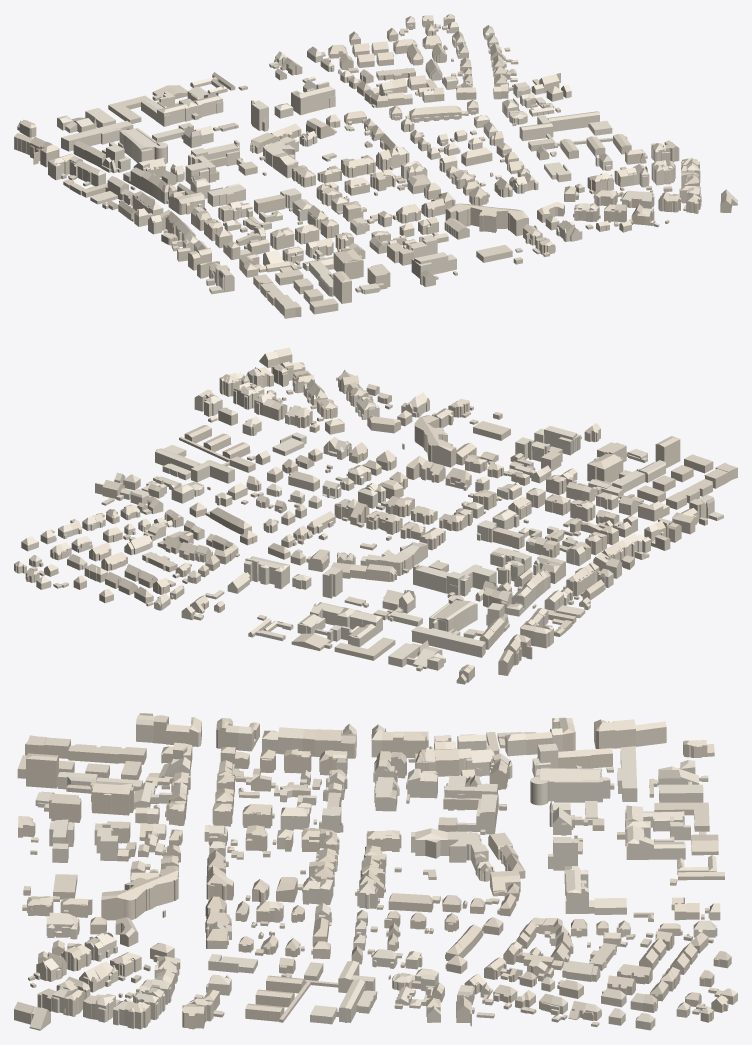
The picture shows the model from 3 angles, top to bottom: view 1: azimuth 30°, elevation 25°; view 2: azimuth 150°, elevation 25°; view 3: azimuth 270°, elevation 25°; orthographic projection. The views are drawn at different scales.
Size of the model in its own units: 633 by 37.71 by 633.
